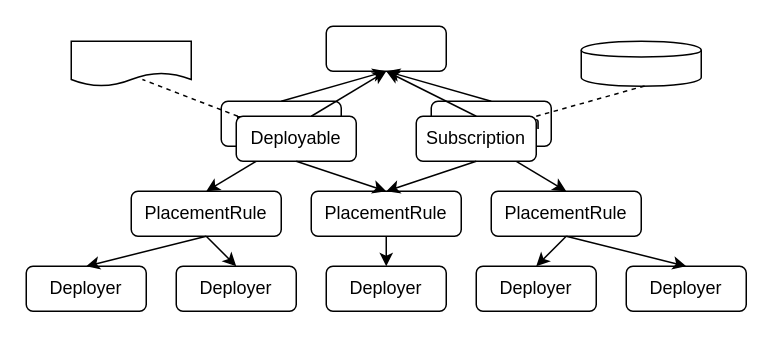
Some shapes in this 773 by 338 pixel diagram are drawn without their labels. The centre of each missing label's shape, as x and y in pixels:
Application: [385,48]
Channel/Store: [640,63]
Template: [130,63]
